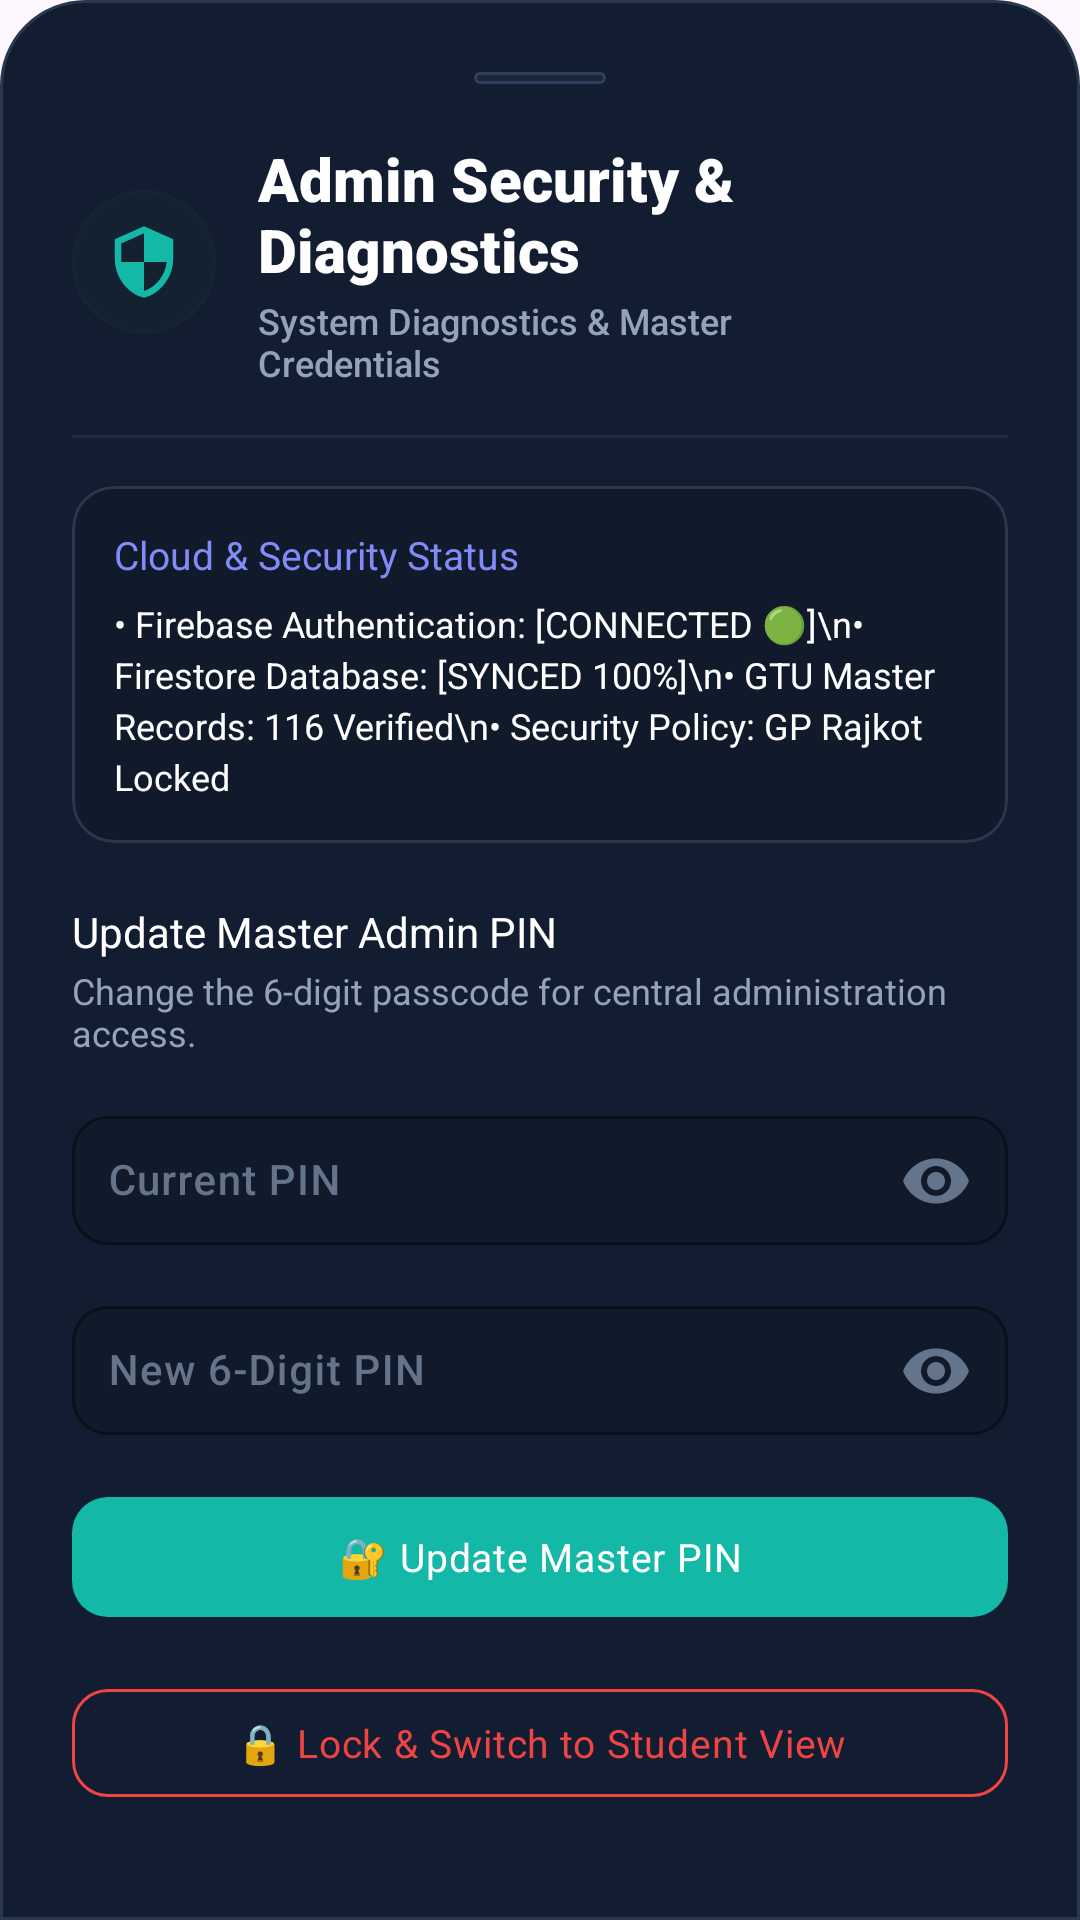

Point at icon controls on the screen. Image size 1080 × 1920, points as point (x, y).
Admin Settings: point (144, 262)
